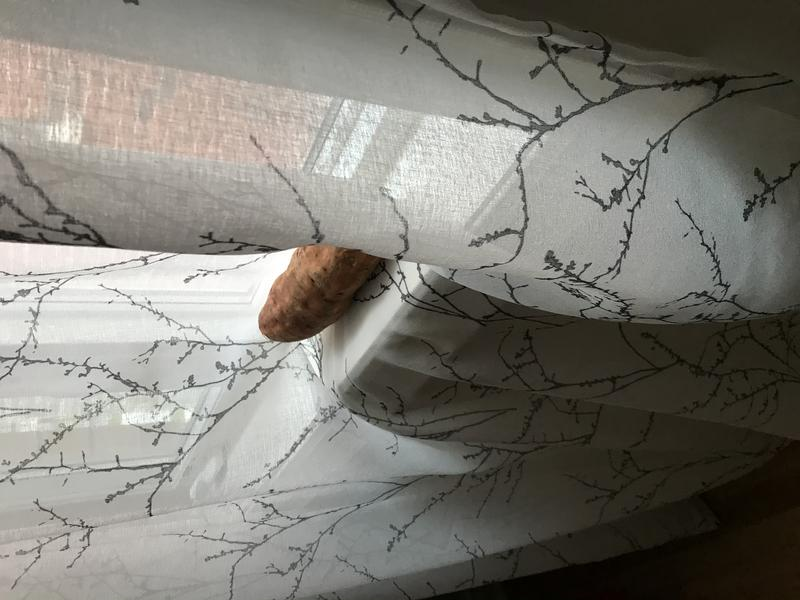sweet_potato: (249, 209, 399, 359)
